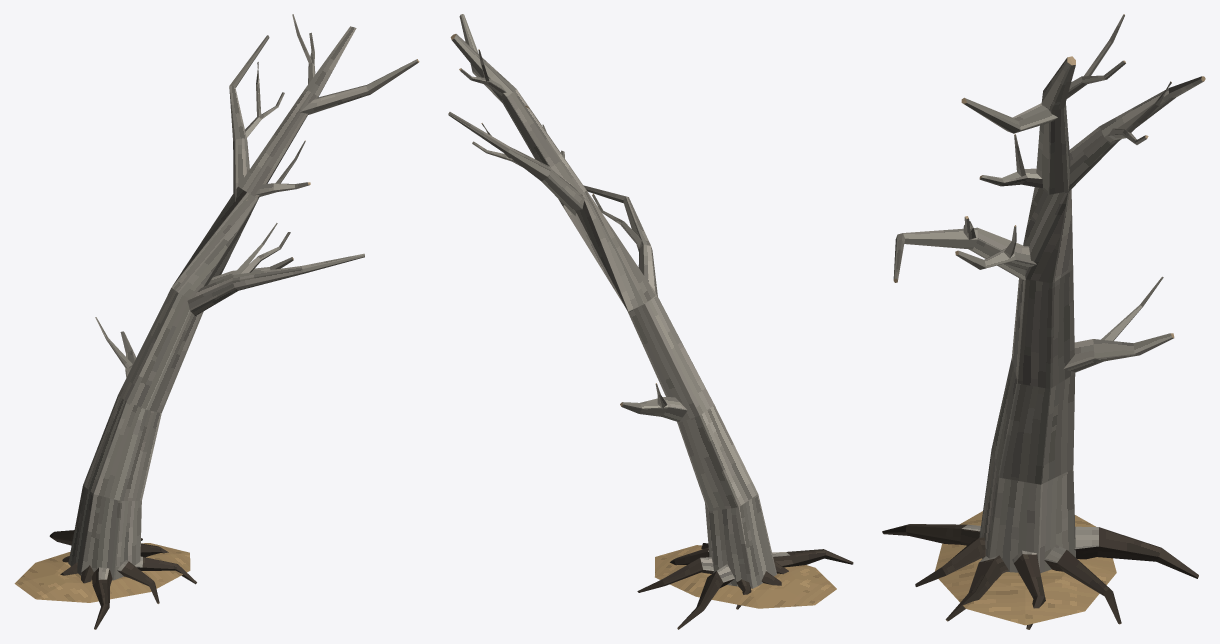
File: leaning-pine.glb
3 views of the same model, side by side, from view 1: azimuth 30°, elevation 25°; view 2: azimuth 150°, elevation 25°; view 3: azimuth 270°, elevation 25° (orthographic). The views are drawn at different scales.
Parts seen in each view (by area): view 1: leaning-pine; view 2: leaning-pine; view 3: leaning-pine.
Boxes of the visible parts, x1,y1,x2,y2 form: leaning-pine: (14, 14, 419, 629); leaning-pine: (448, 14, 853, 629); leaning-pine: (882, 14, 1205, 629).
Bounding box in the file's own units: 6.72 × 8.4 × 3.42.
4 materials, 4 textured.
